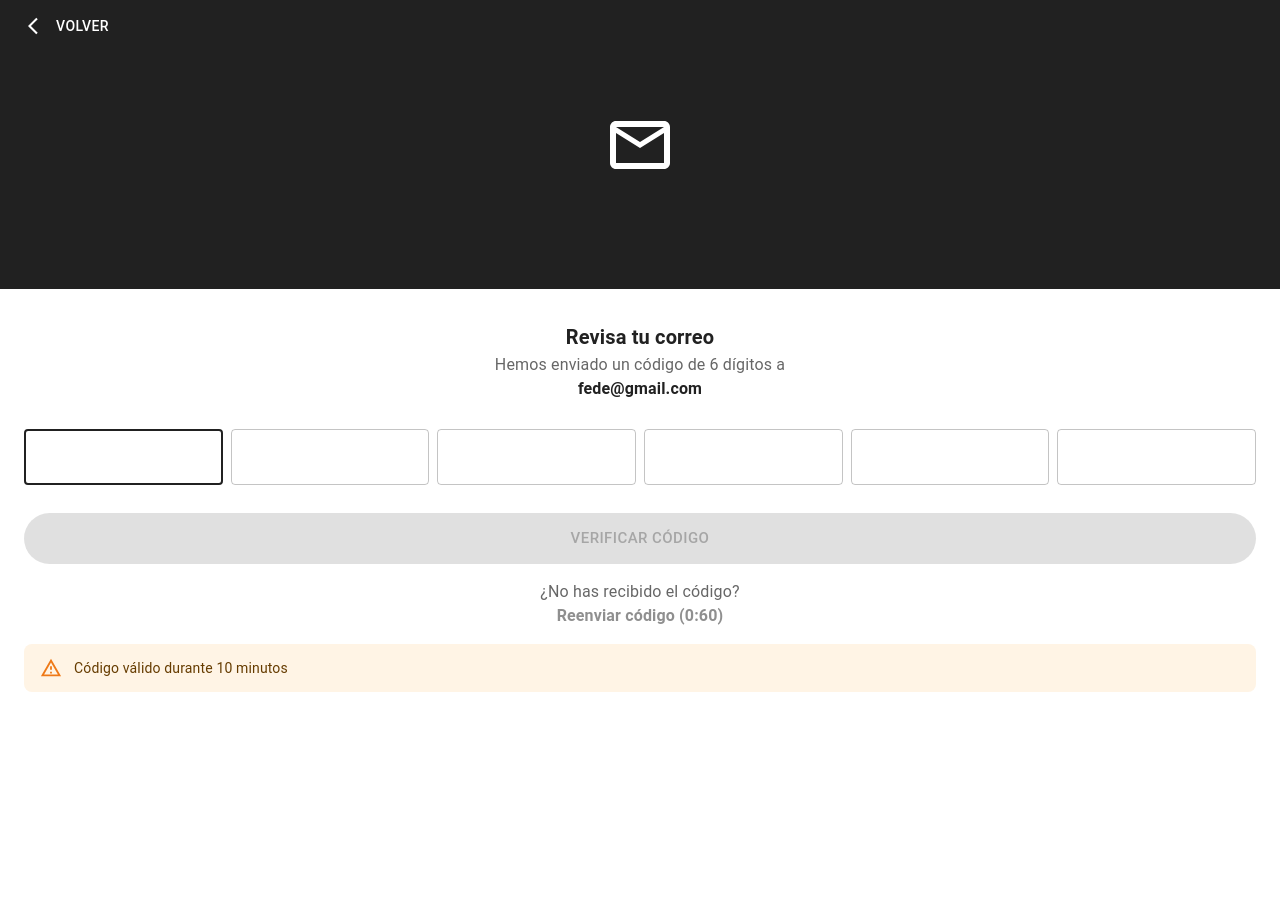
Test: Otp › enables verify button when every box has a numeric value
The width and height of the screenshot is (1280, 900).
Type "1" into the 1st field. click: (123, 457)
box: [24,429,223,485]
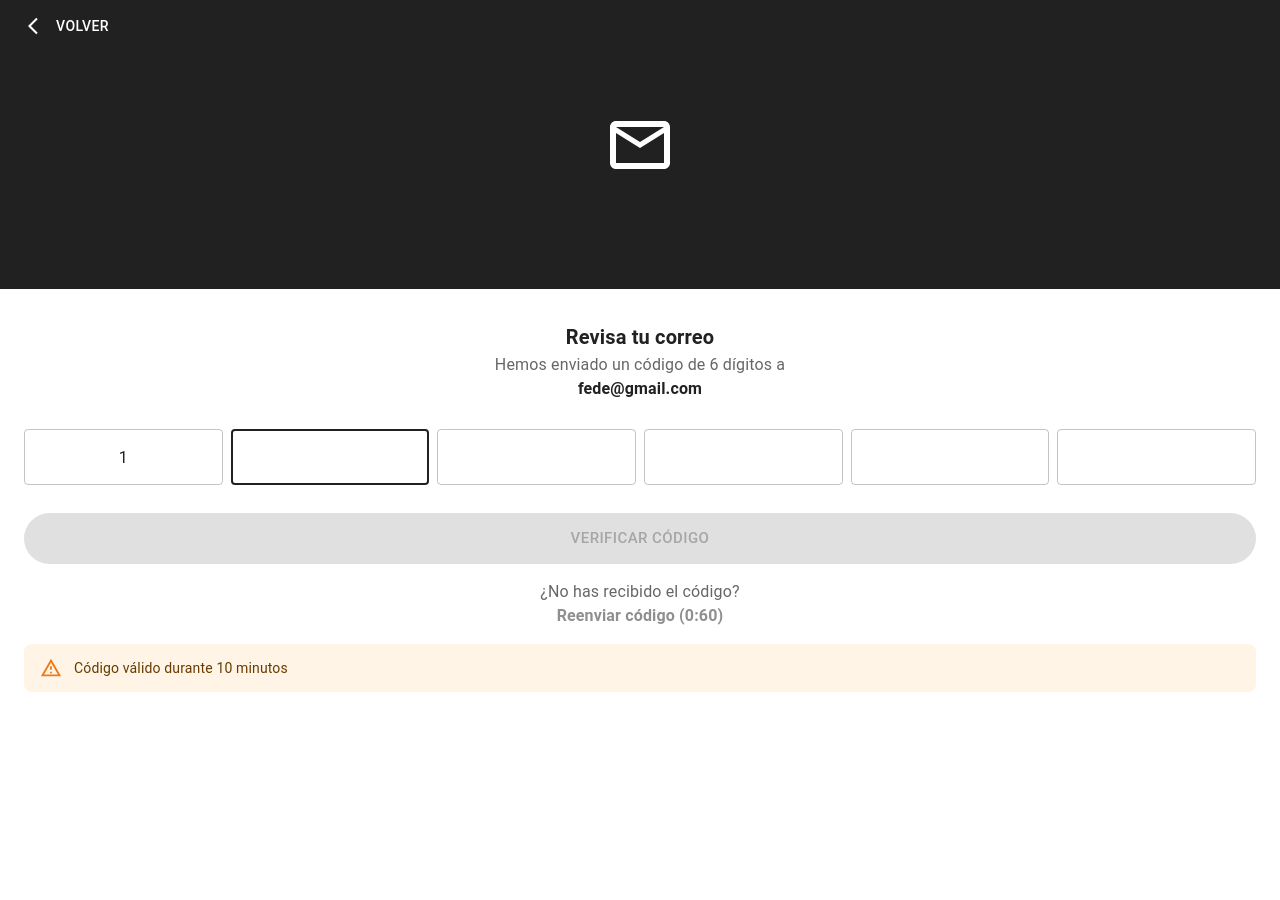
Type "1" into the 2nd field. click: (330, 457)
box: [231,429,429,485]
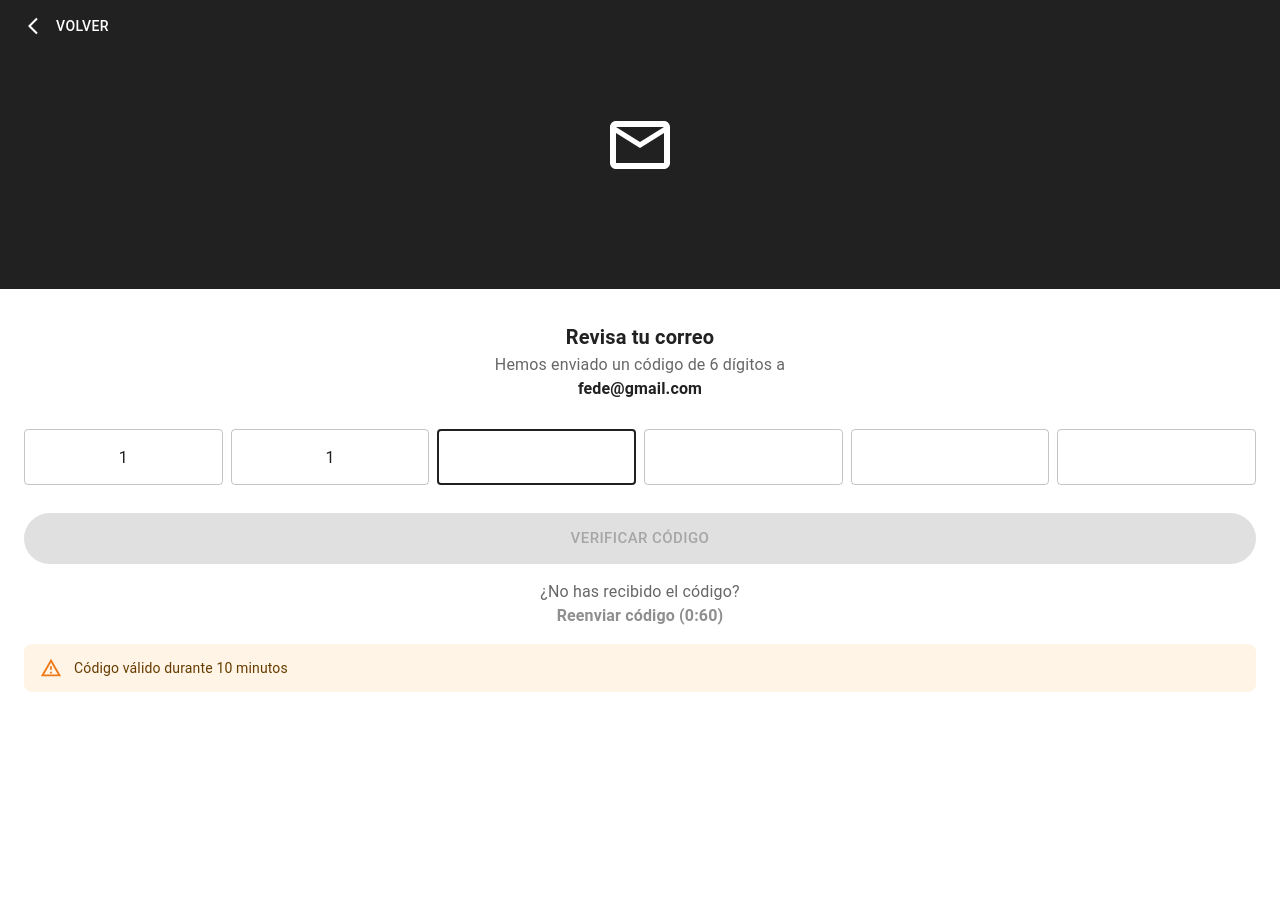
Type "1" into the 3rd field. click: (537, 457)
box: [437,429,636,485]
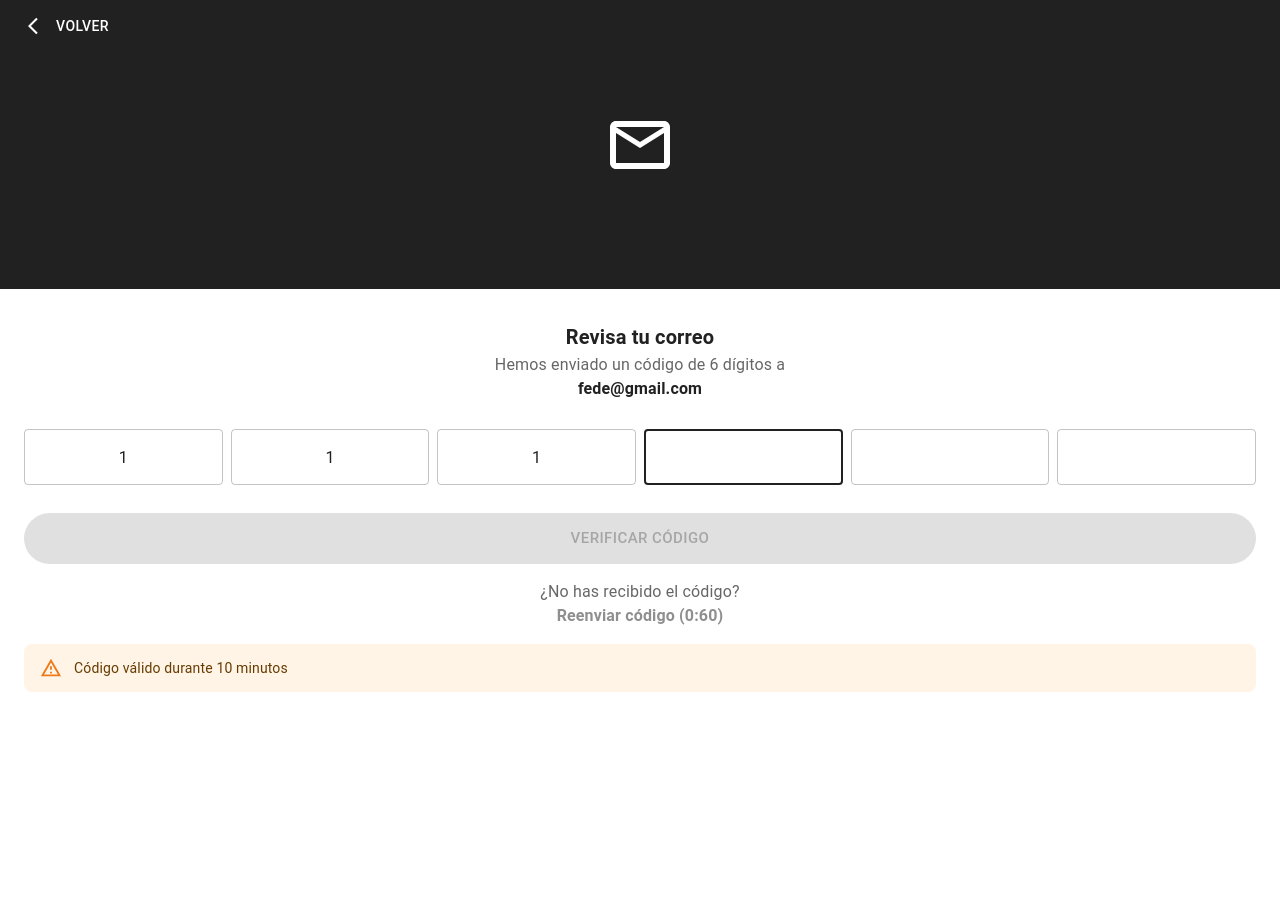
Type "1" into the 4th field. click: (743, 457)
box: [644,429,843,485]
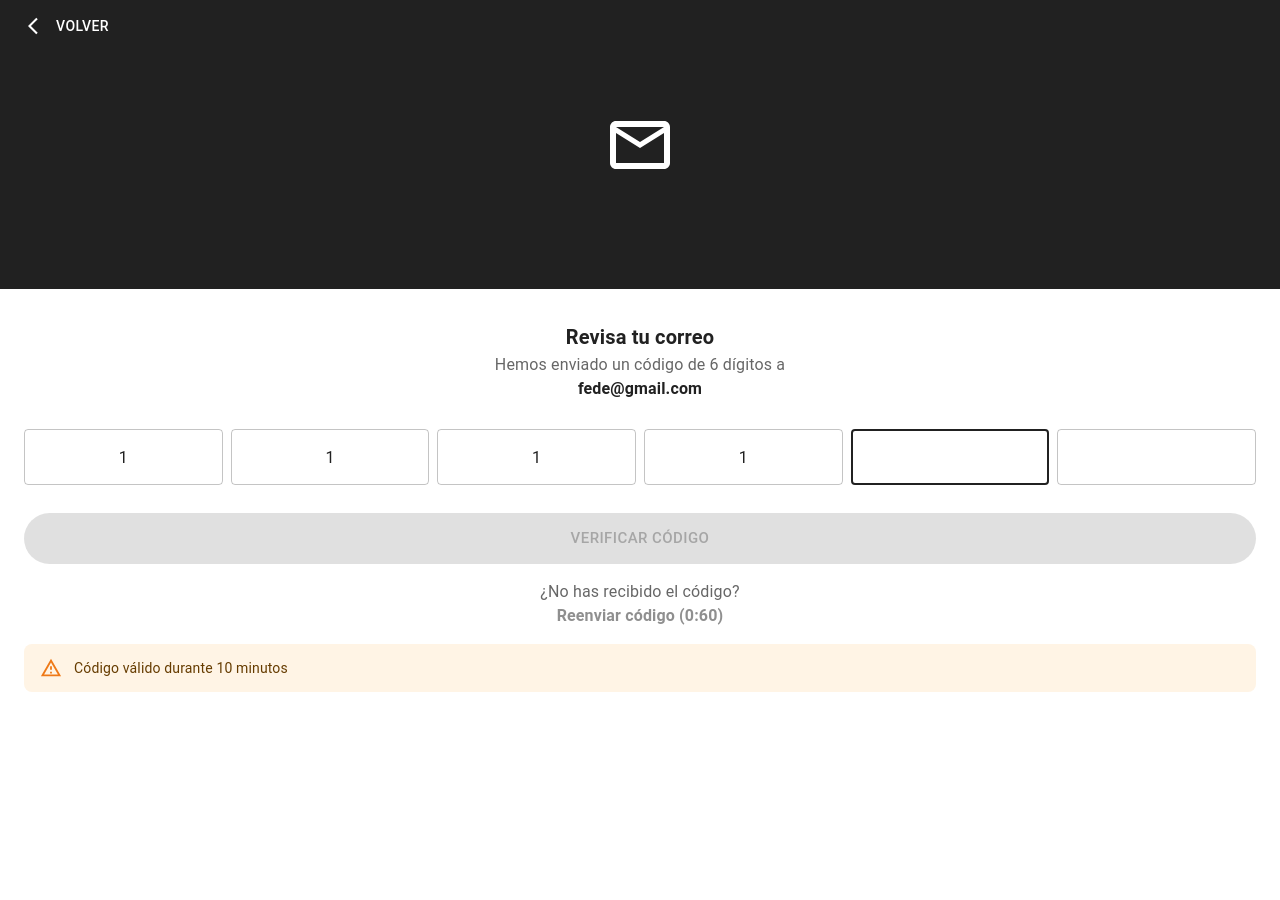
Type "1" into the 5th field. click: (950, 457)
box: [851,429,1049,485]
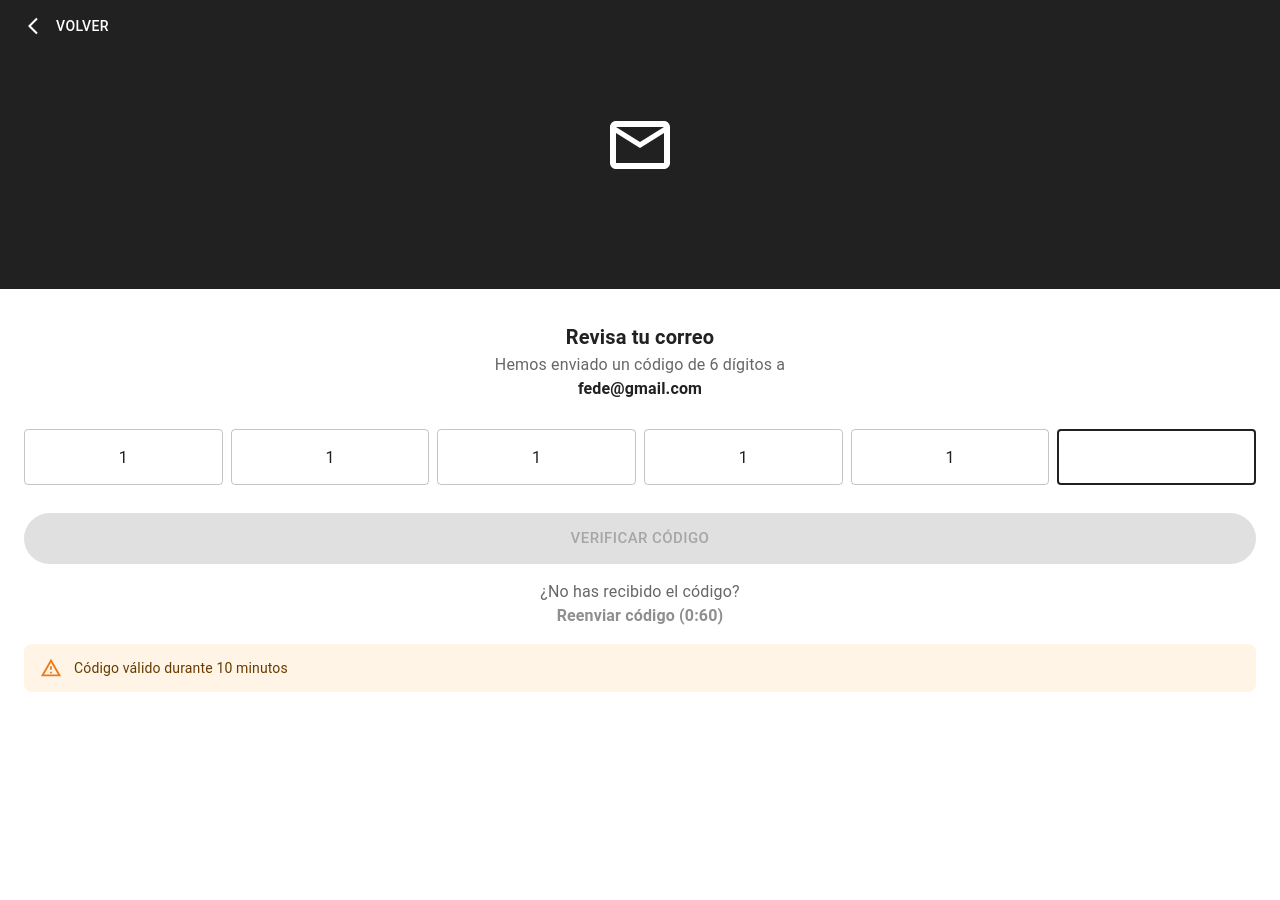
Type "1" into the 6th field. click: (1157, 457)
box: [1057,429,1256,485]
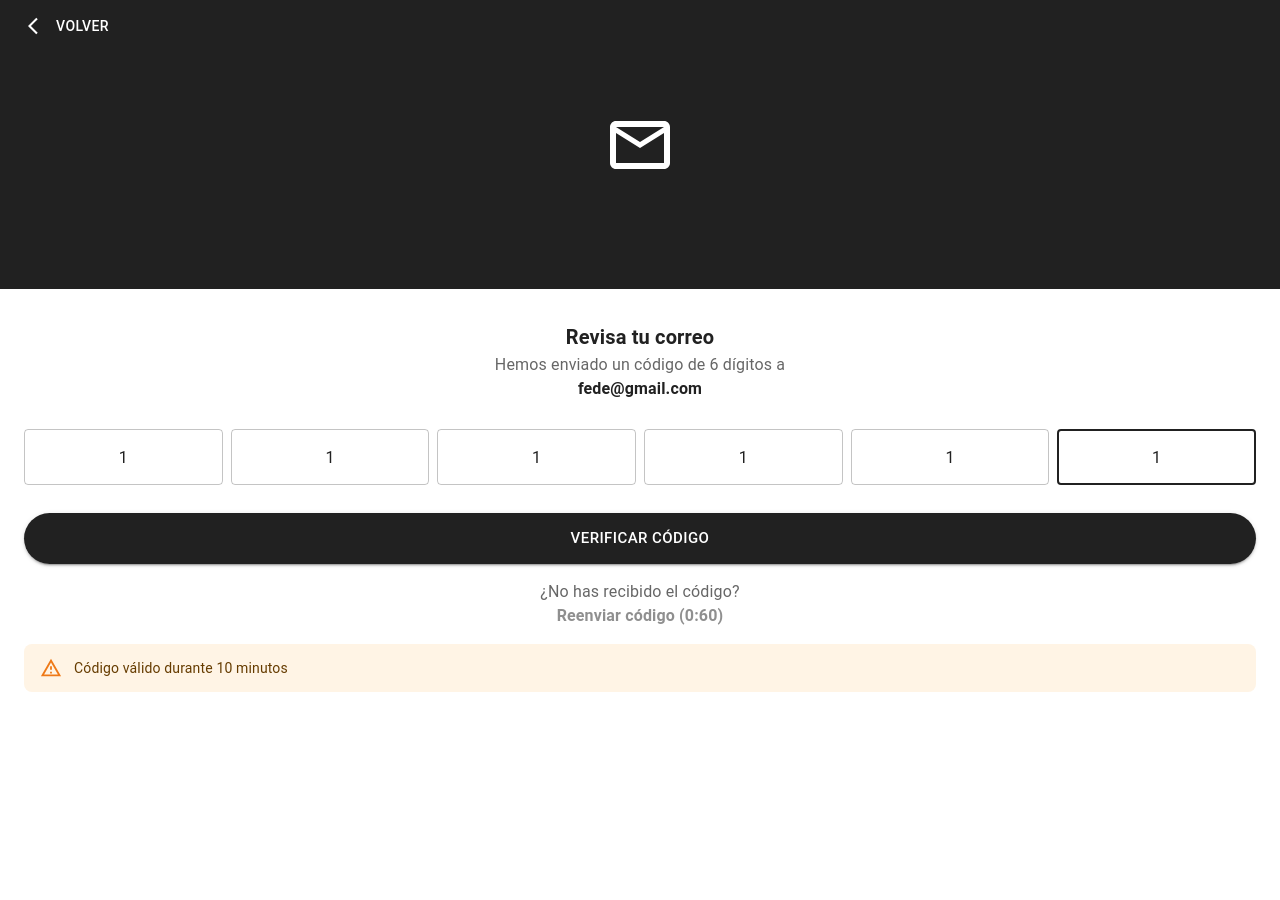
Expected: the button "Verificar código" is enabled, [24,513,1256,564]
